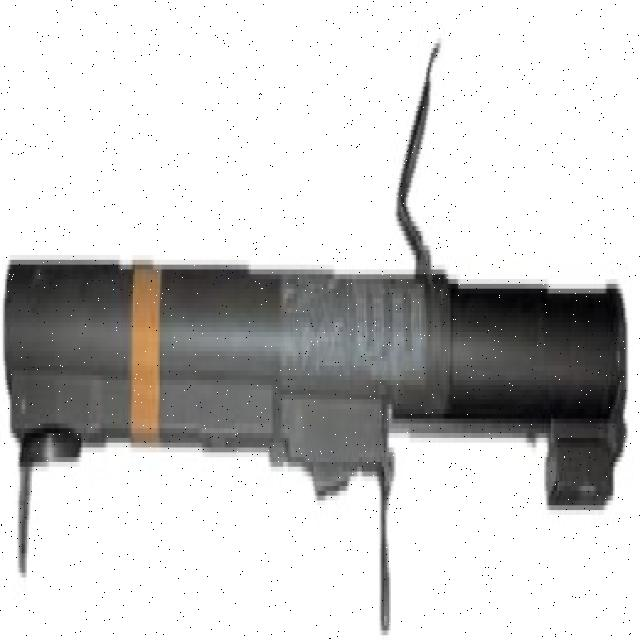bazooka: (1, 26, 639, 640)
